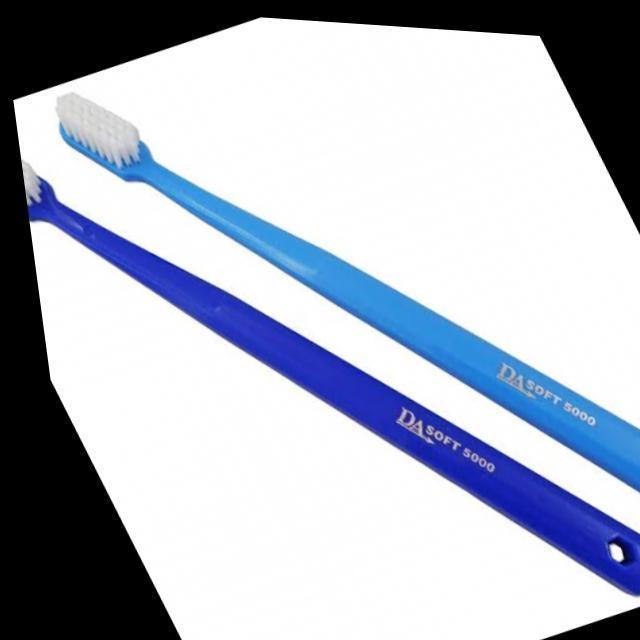toothbrush: (16, 157, 640, 592), (32, 86, 640, 498)
